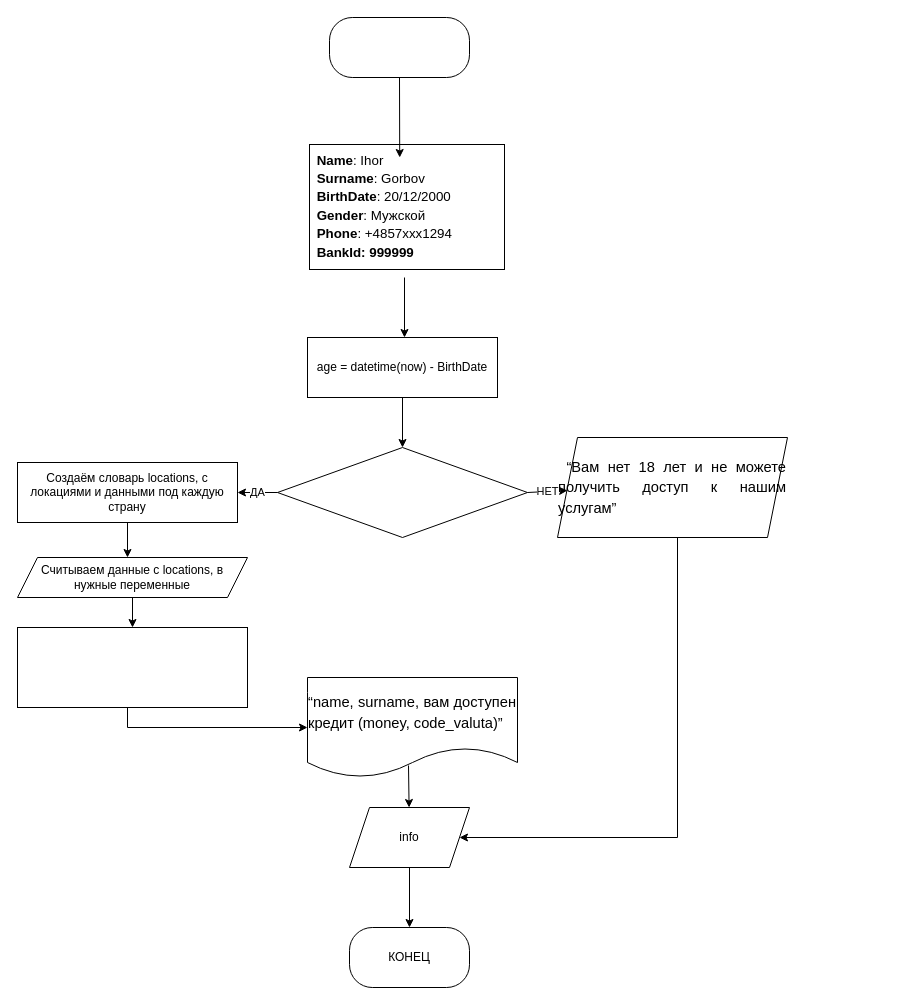
This 905x1005 diagram has some shape labels left out. The shapes that lost their labels are listed below. From the top down, each one's centre as x and y in pixels, then its label:
At (399,47): "НАЧАЛО".
At (402,492): "age >= 18".
At (132,667): "Высчитываем кредит под валюту человека".
